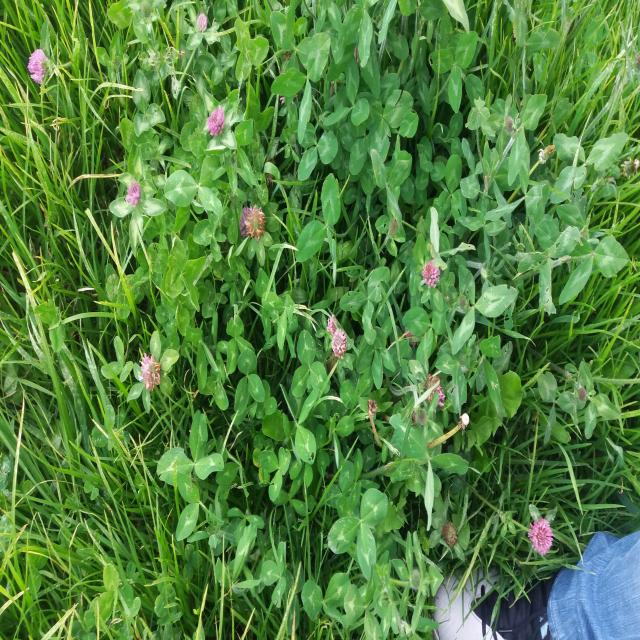Four Leaf Clover: (165, 231, 206, 312)
